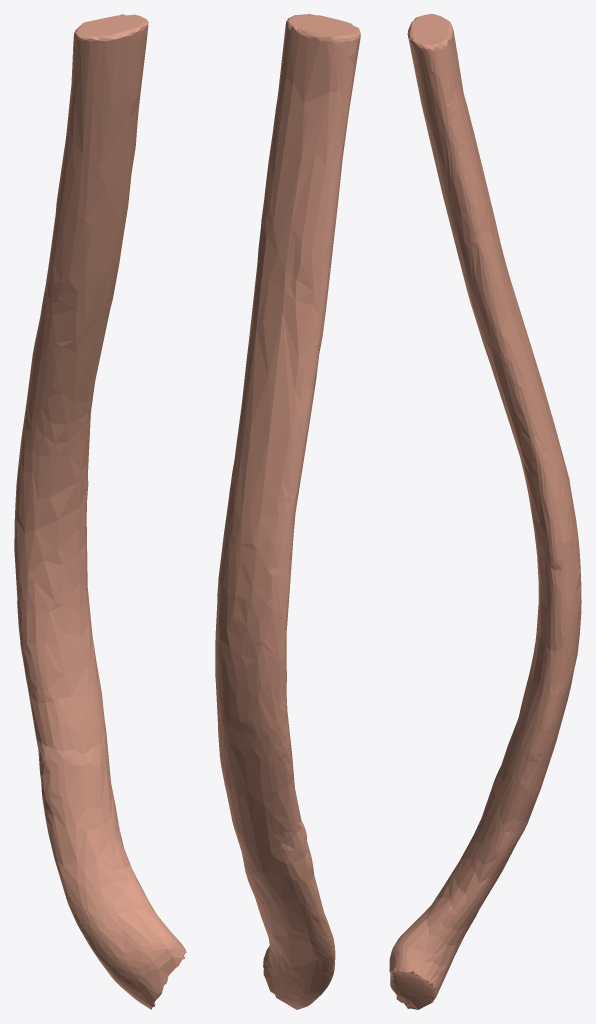
The model's file is esophagus.glb.
3 renders of one model, left to right at view 1: azimuth 30°, elevation 25°; view 2: azimuth 150°, elevation 25°; view 3: azimuth 270°, elevation 25°, orthographic. The views are drawn at different scales.
Parts seen in each view (by area): view 1: esophagus; view 2: esophagus; view 3: esophagus.
Boxes of the visible parts, bbox=[...] form: esophagus: bbox=[14, 14, 186, 1009]; esophagus: bbox=[215, 14, 360, 1009]; esophagus: bbox=[389, 14, 581, 1009].
Size of the model in its own units: 25.91 by 249 by 44.96.
